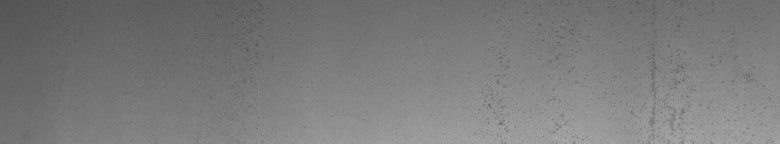ib: (485, 53, 569, 133)
